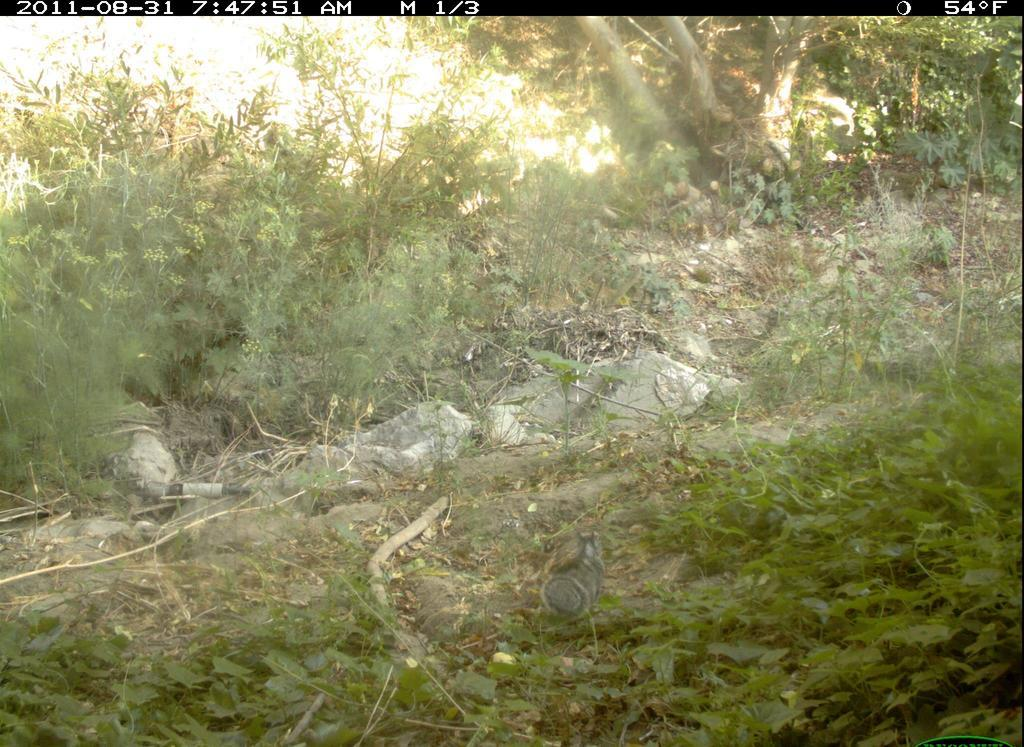squirrel: (524, 495, 624, 642)
